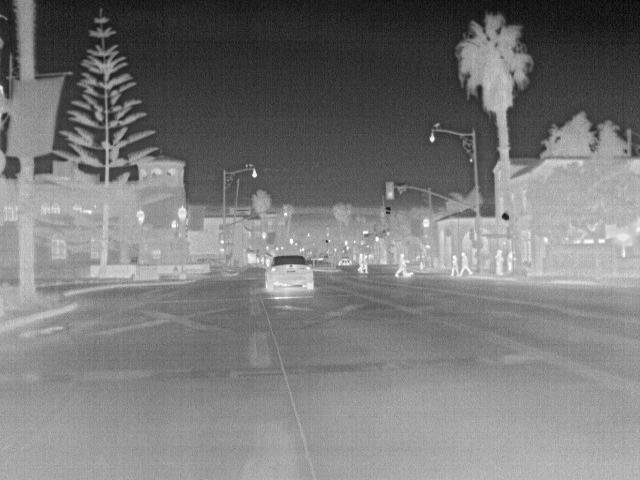car: (265, 252, 316, 296), (338, 255, 354, 266)
dog: (401, 270, 415, 279)
person: (446, 253, 463, 280), (393, 252, 410, 278), (492, 246, 506, 276), (460, 251, 475, 277), (356, 251, 366, 274), (363, 252, 371, 276)
